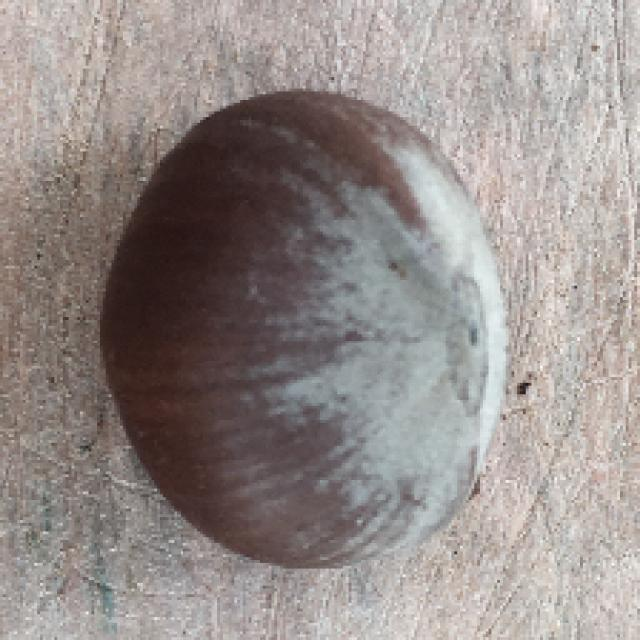DamagedHazelnut: (100, 82, 510, 572)
